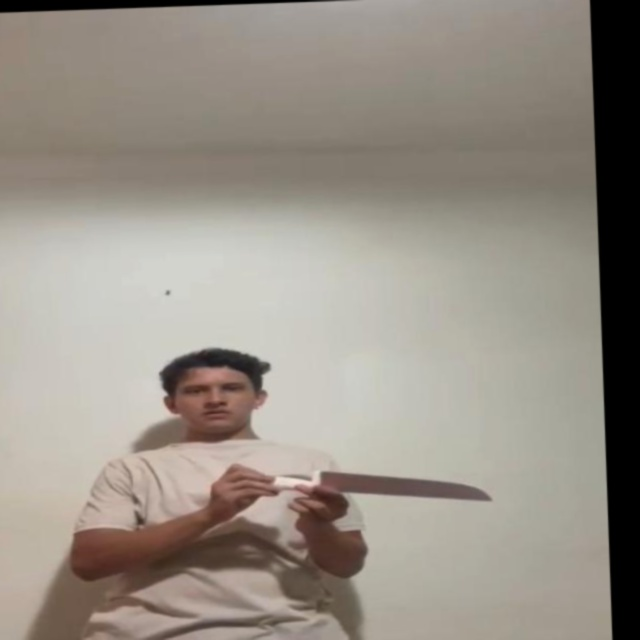Sharp-Object: (324, 461, 496, 510)
